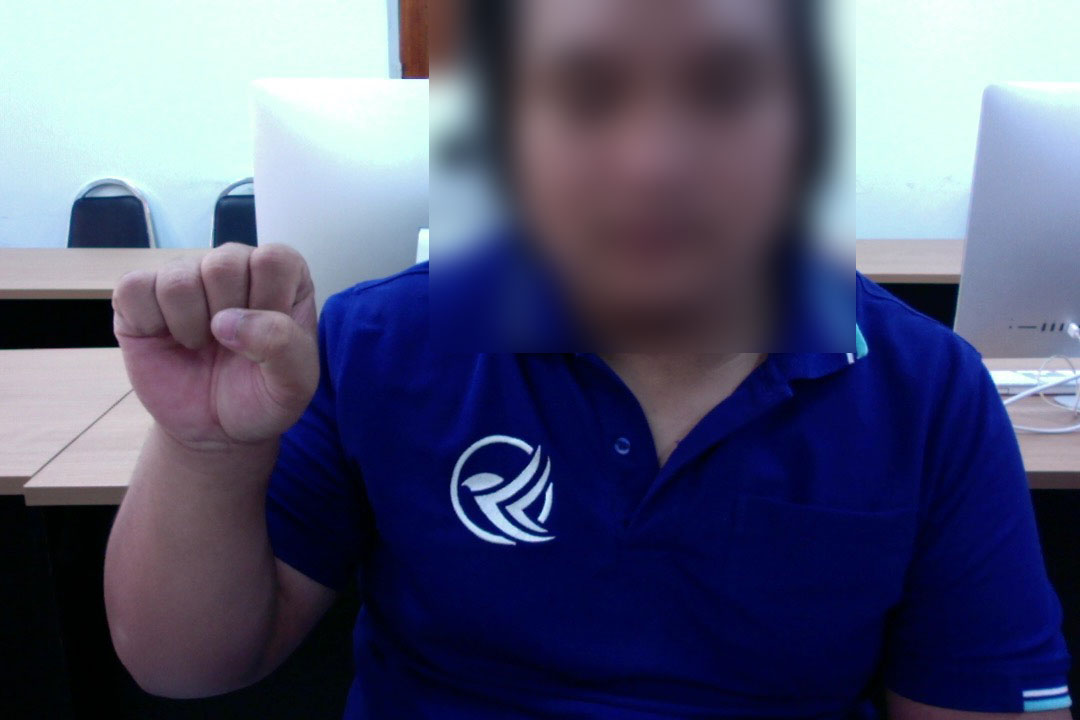sor: (104, 233, 328, 460)
